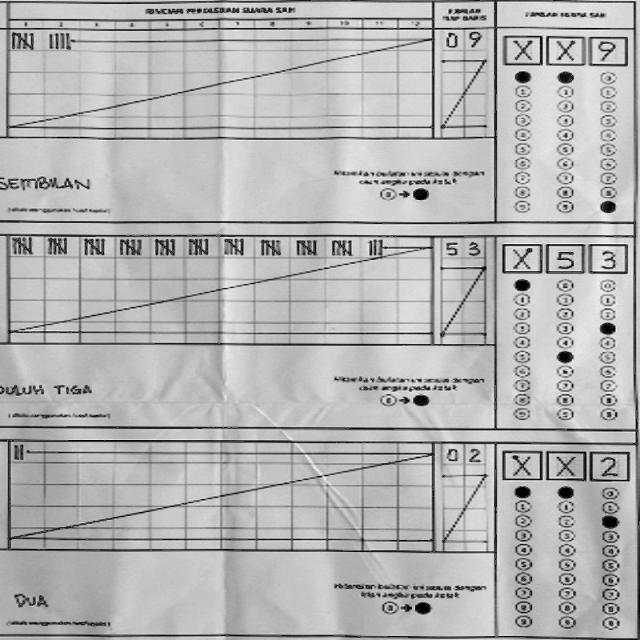Suara: (498, 234, 632, 277), (498, 29, 632, 71), (500, 442, 634, 484)
